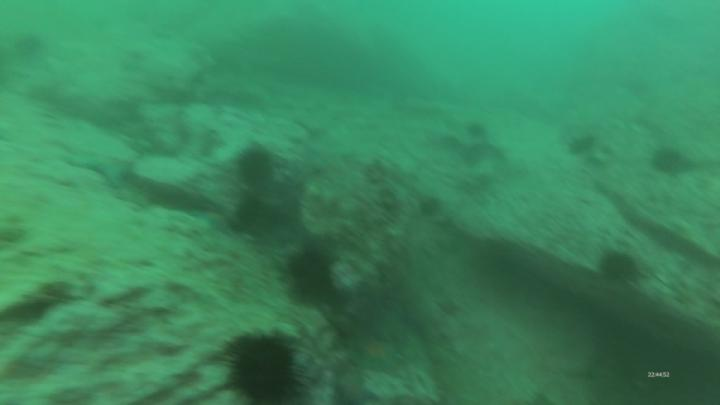echinus: (221, 326, 309, 405), (285, 247, 345, 311), (600, 246, 644, 286), (238, 146, 277, 188), (647, 143, 692, 178), (10, 32, 45, 60), (567, 131, 600, 159), (462, 120, 489, 143)
